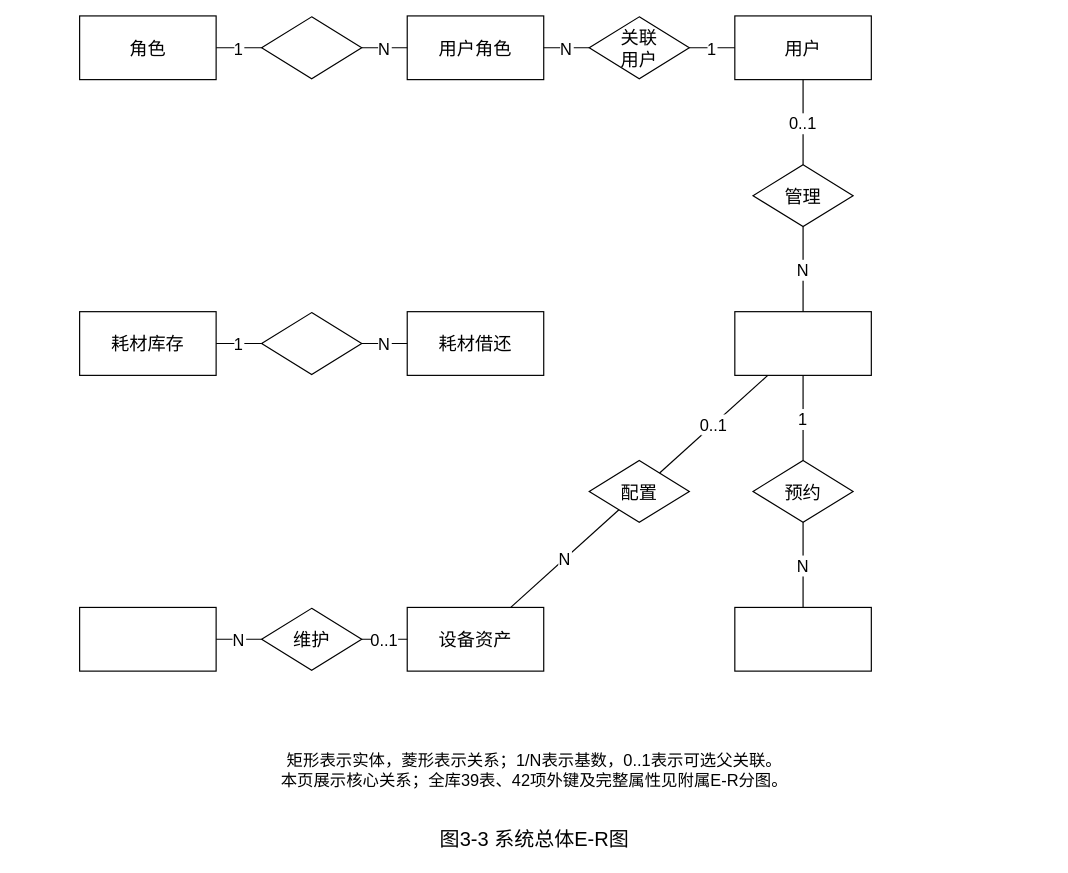
Image size: 1068x873. Some labels were removed from this diagram. Here are the shapes that lost their labels. From the top down, the centre of each, then its label:
At point 311,47: "分配 角色".
At point 311,343: "借还".
At point 803,343: "实验室".
At point 147,638: "维护记录".
At point 803,638: "实验室预约".
